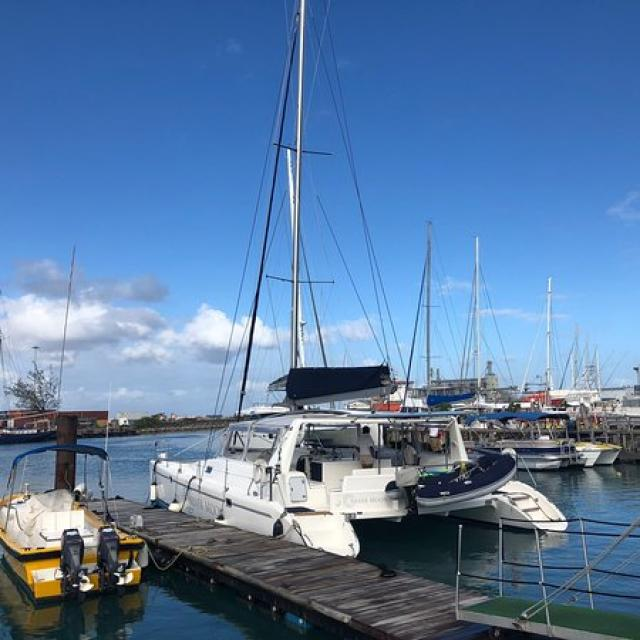houseboat: (141, 376, 523, 553)
